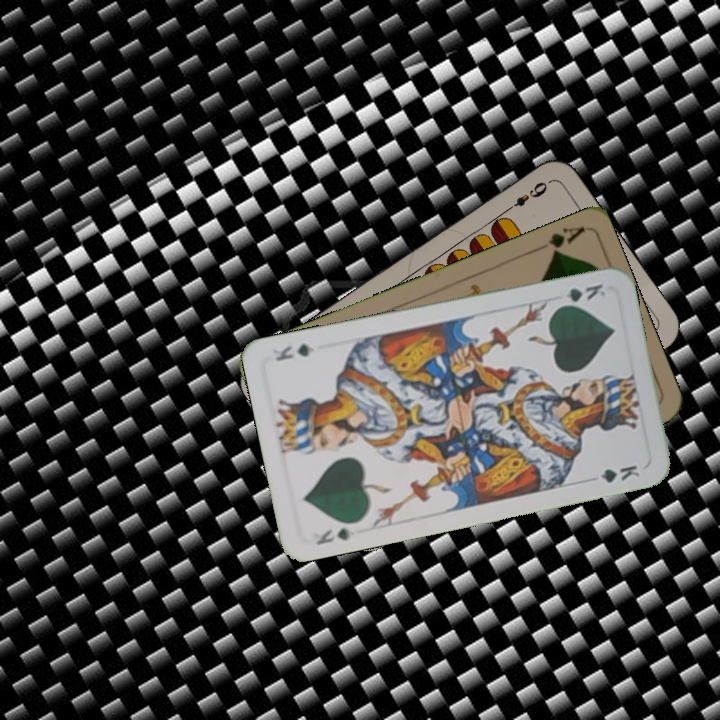E9: (500, 177, 553, 216)
GA: (530, 222, 586, 259)
GK: (553, 279, 608, 310), (312, 523, 357, 548)
